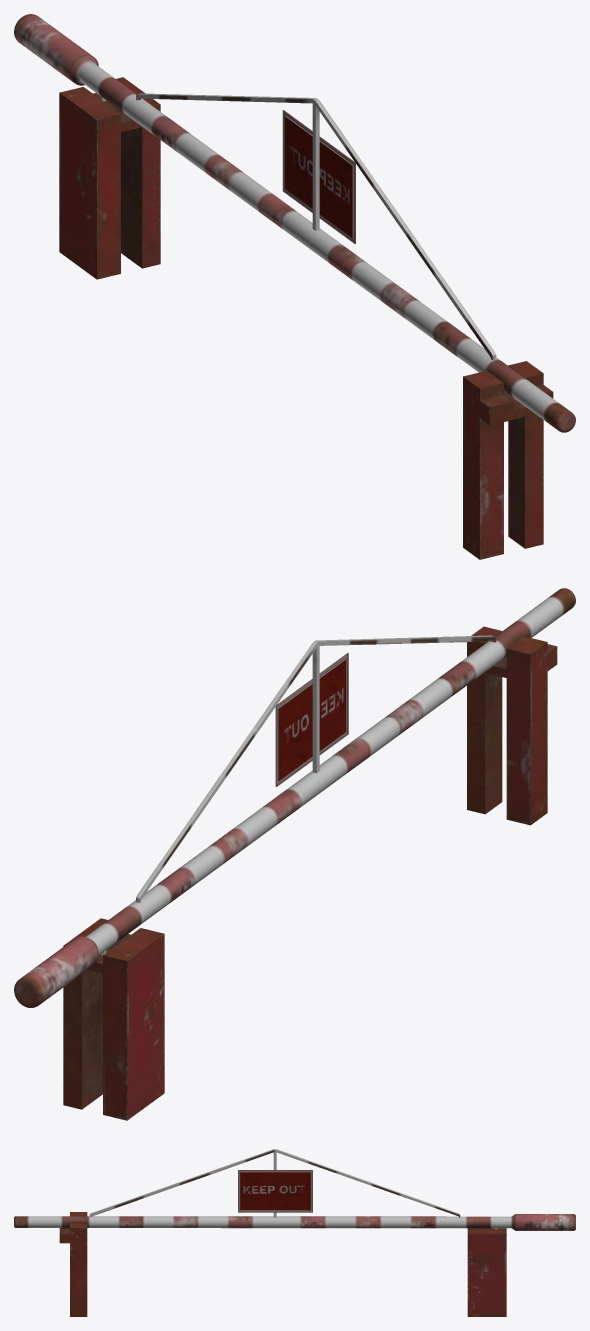
Rendered from boom-gate.glb.
3 views of the same model, one above another, from view 1: azimuth 30°, elevation 25°; view 2: azimuth 150°, elevation 25°; view 3: azimuth 270°, elevation 25° (orthographic). The views are drawn at different scales.
Parts seen in each view (by area): view 1: pole, right stand, left stand, sign; view 2: pole, right stand, left stand, sign; view 3: pole, right stand, sign, left stand.
Part boxes in pixels (x1,y1,x2,y2): pole: [14, 14, 575, 432]; right stand: [59, 77, 160, 279]; left stand: [463, 361, 553, 559]; sign: [282, 110, 355, 243]; pole: [14, 588, 575, 1007]; right stand: [63, 918, 164, 1120]; left stand: [467, 626, 557, 825]; sign: [275, 653, 348, 786]; pole: [14, 1149, 575, 1230]; right stand: [467, 1228, 506, 1316]; sign: [238, 1170, 312, 1212]; left stand: [59, 1212, 87, 1316].
Bounding box in the file's own units: 0.238 × 1.1 × 3.5.
3 materials, 3 textured.
